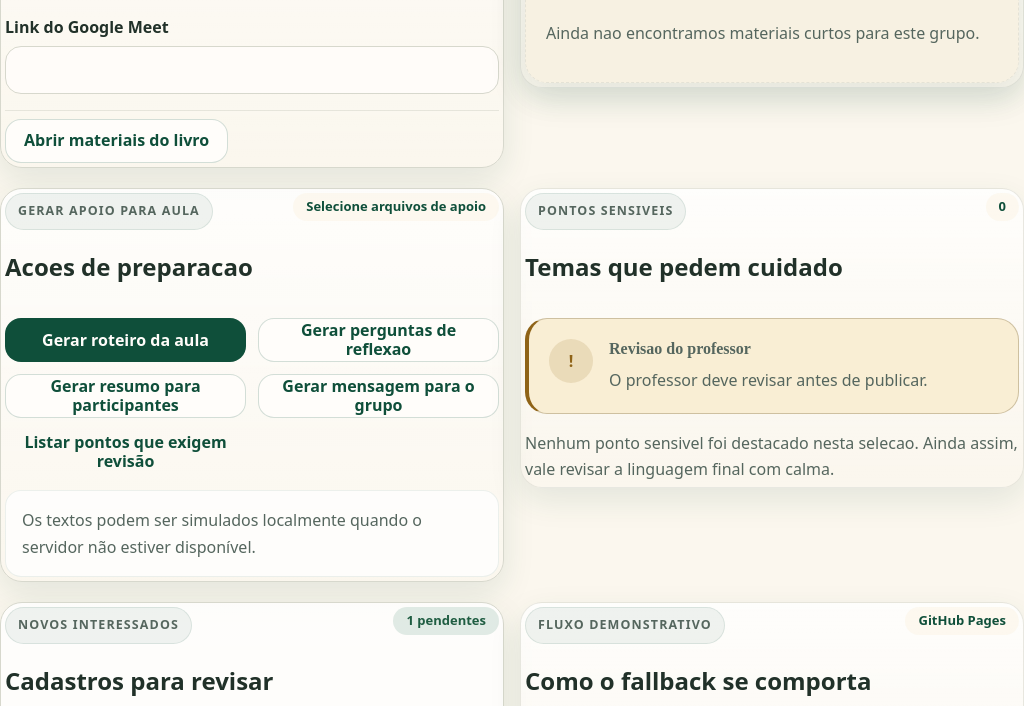
BookAccess frontend authority › Professor substitui feedback antigo quando a geração posterior é bem-sucedida
(page scrolled)
Click the button "Gerar roteiro da aula" at point(126, 340), box [5,318,246,362]
(page scrolled)
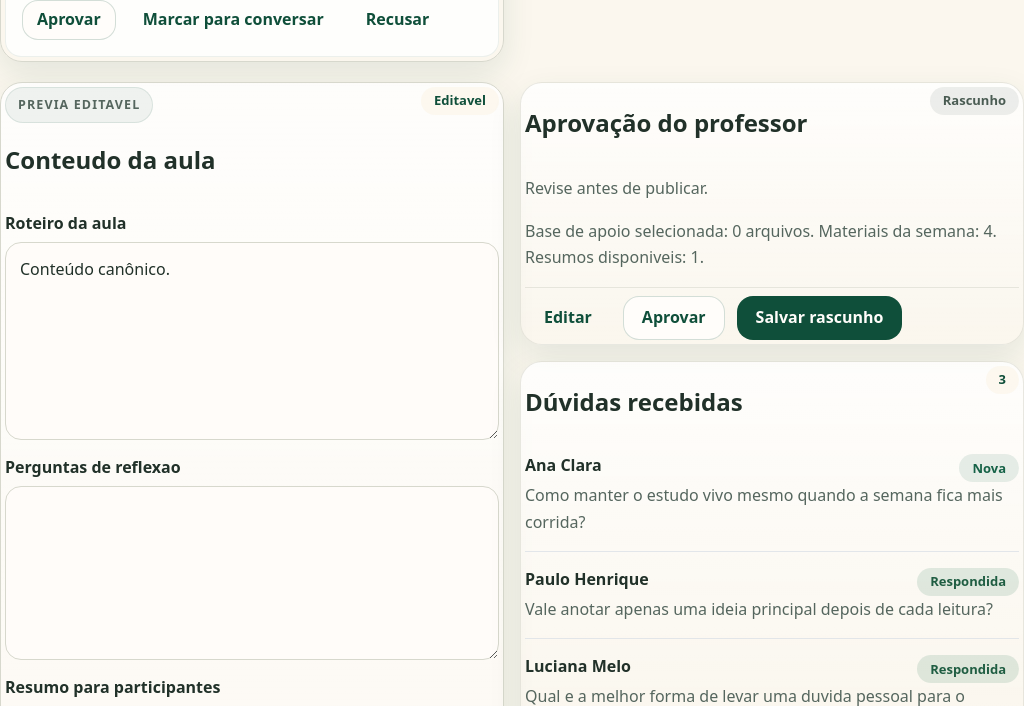
Check: the text box showing "Conteúdo canônico." is shown, box [5,242,499,440]
